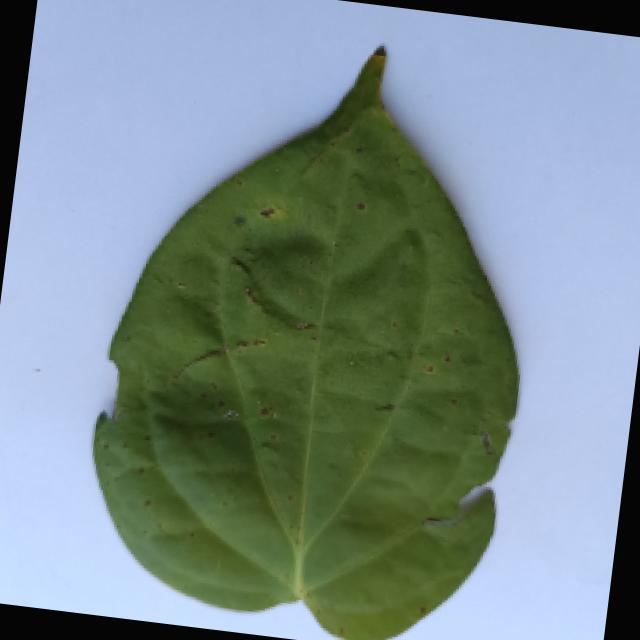slow-decline: (50, 11, 573, 640)
